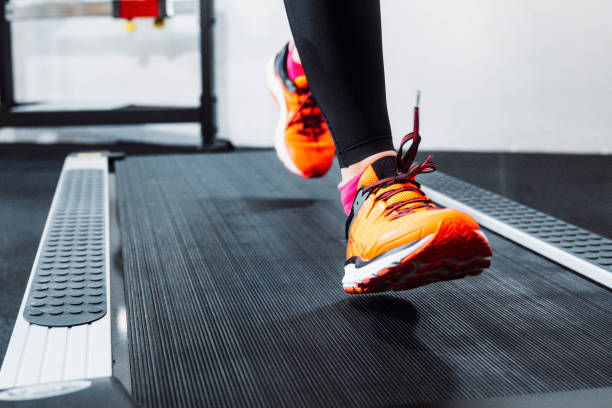Footwear: (324, 148, 496, 297)
